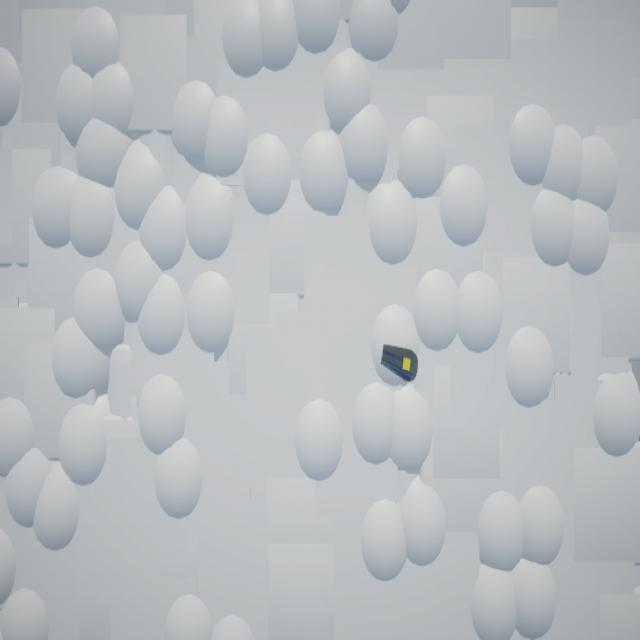handle_folk: (382, 345, 419, 383)
